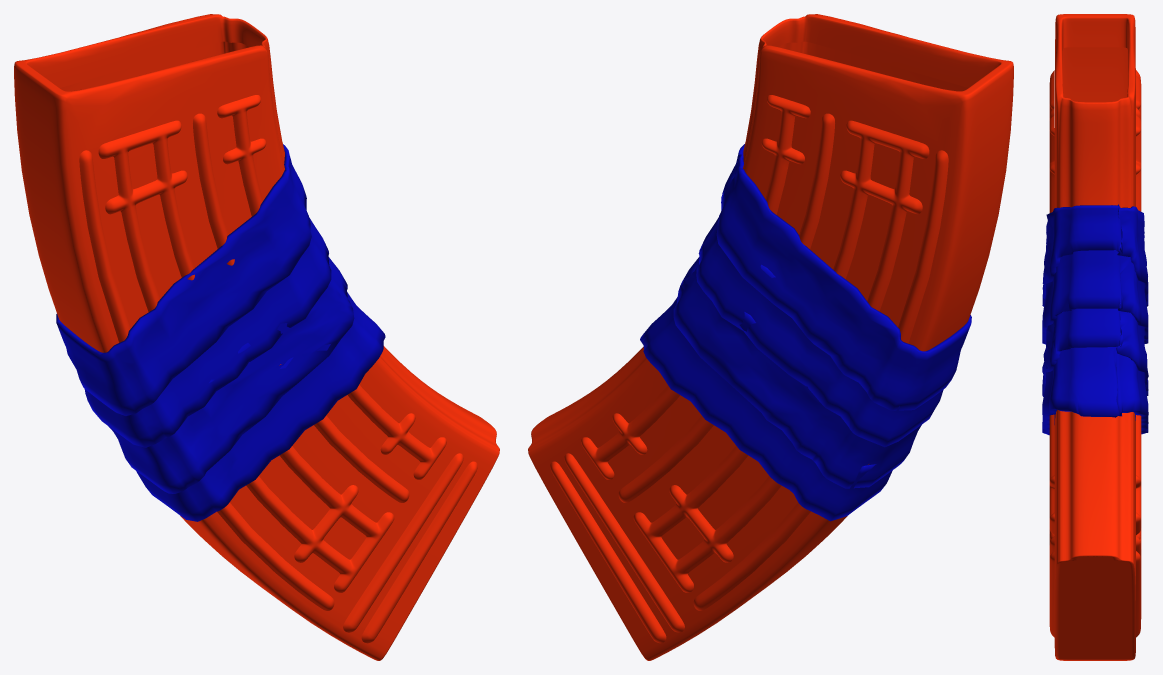
Rendered from magazine_03.fbx.
The picture shows the model from 3 angles, left to right: view 1: azimuth 30°, elevation 25°; view 2: azimuth 150°, elevation 25°; view 3: azimuth 270°, elevation 25°; orthographic projection. The views are drawn at different scales.
Visible parts, largest first — view 1: Plane.140; view 2: Plane.140; view 3: Plane.140.
Part boxes in pixels (x1=…): Plane.140: x1=14, y1=14, x2=499, y2=660; Plane.140: x1=528, y1=14, x2=1013, y2=660; Plane.140: x1=1042, y1=14, x2=1148, y2=660.
Bounding box in the file's own units: 51.32 × 70.29 × 13.01.
